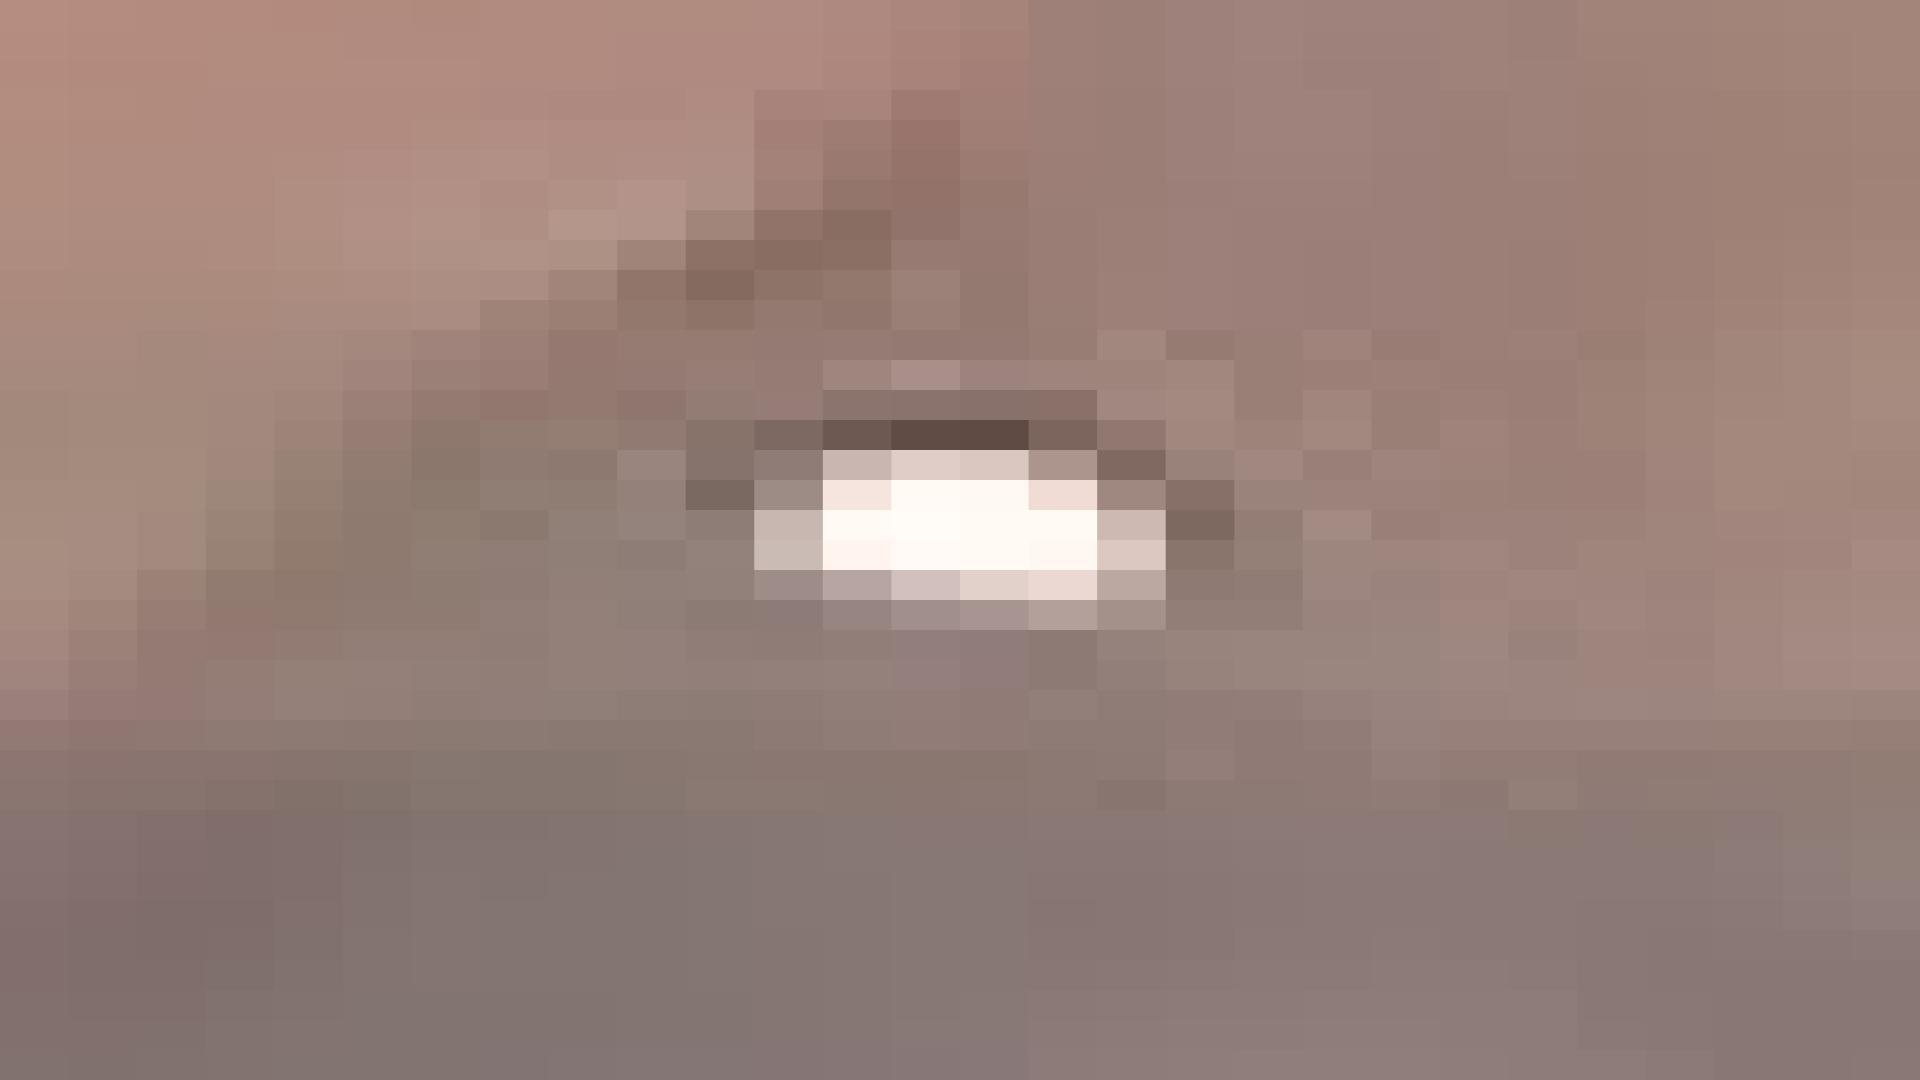Squash-Ball: (0, 30, 1920, 1080)
